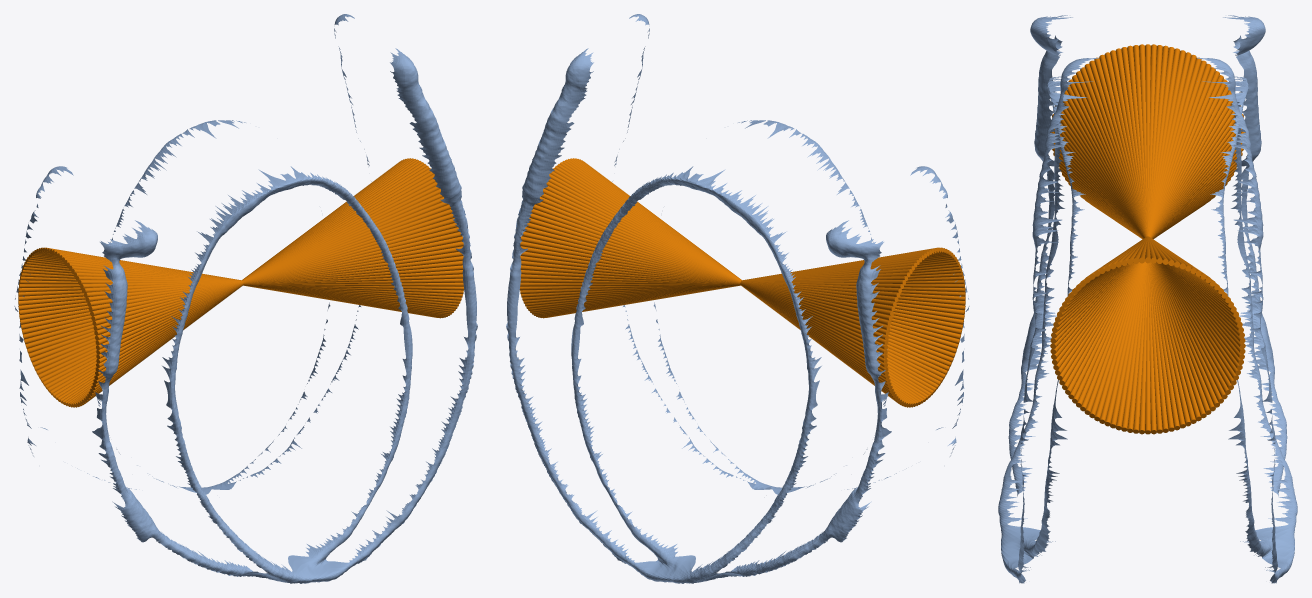
File: A20024972_5995-37-531-2346_DigitalTwin.glb
3 renders of one model, left to right at view 1: azimuth 30°, elevation 25°; view 2: azimuth 150°, elevation 25°; view 3: azimuth 270°, elevation 25°, orthographic. The views are drawn at different scales.
Visible parts, largest first — view 1: world; view 2: world; view 3: world.
Boxes of the visible parts, left/top/right/bottom form: world: left=14, top=14, right=477, bottom=583; world: left=506, top=14, right=969, bottom=583; world: left=998, top=15, right=1297, bottom=583.
Size of the model in its own units: 338 by 420 by 199.
